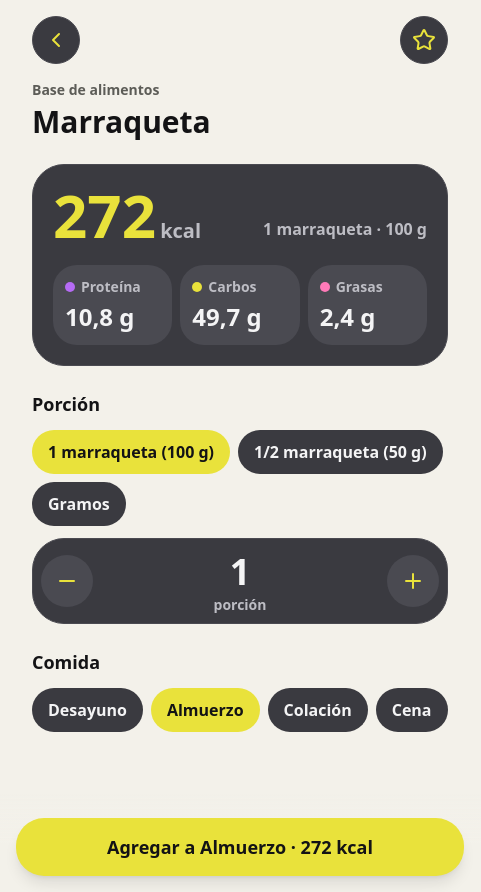
Scenario: FoodDetailPage › recalculates live with the −/+ buttons (HU-05 CA2)
Click the button named "Sumar 0,5" at (413,581), box [387,555,439,607]
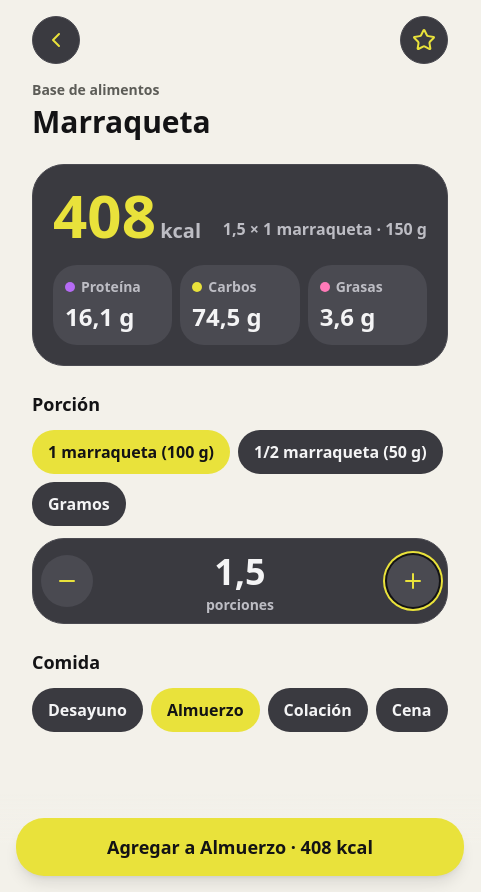
Expected: the text "1,5 × 1 marraqueta · 150 g" is shown, [223,217,427,245]
Expected: the field named "Cantidad de porciones" holds "1,5", [184,547,296,595]
Expected: the button "Agregar a Almuerzo · 408 kcal" is shown, [16,818,464,876]
